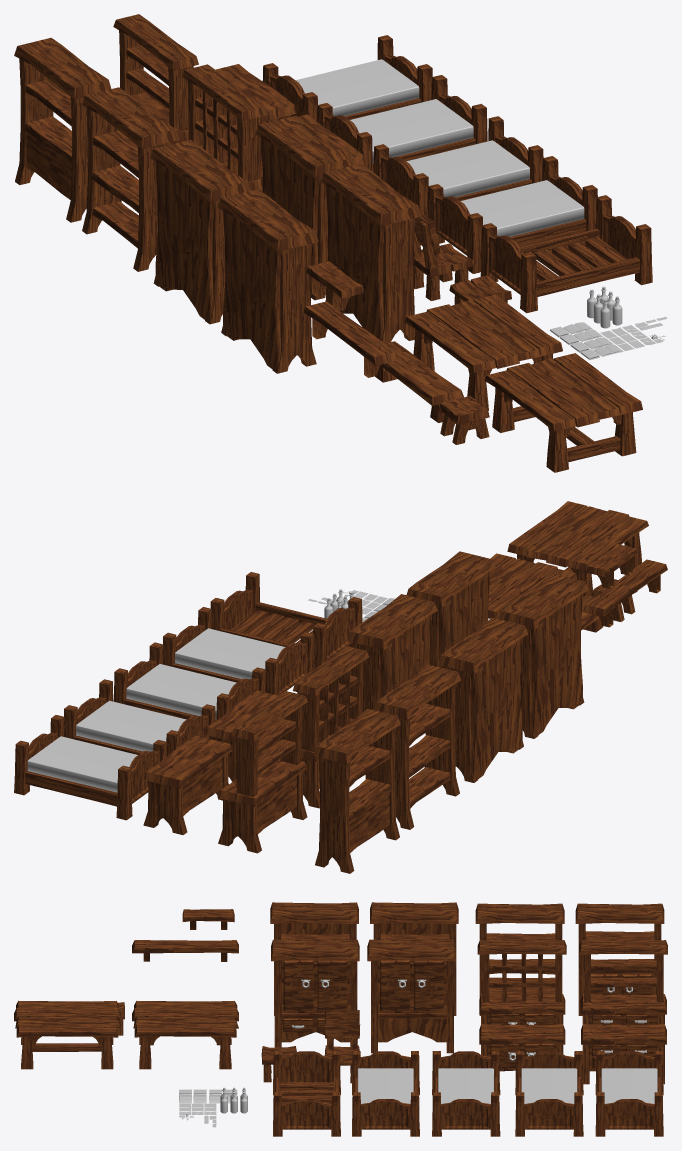
The model's file is Furniture_Misc.fbx.
The picture shows the model from 3 angles, top to bottom: view 1: azimuth 30°, elevation 25°; view 2: azimuth 150°, elevation 25°; view 3: azimuth 270°, elevation 25°; orthographic projection. The views are drawn at different scales.
Parts seen in each view (by area): view 1: pCube509, pCube502, pCube510, pCube511, pCube500, pCube512, pCube517, pCube516, pCube501, pCube515, pCube514, pCube513 (+11 smaller); view 2: pCube512, pCube510, pCube506, pCube509, pCube511, pCube513, pCube516, pCube500, pCube508, pCube515, pCube517, pCube514 (+7 smaller); view 3: pCube508, pCube502, pCube507, pCube506, pCube515, pCube517, pCube514, pCube516, pCube513, pCube500, pCube501, pCube512 (+9 smaller).
Boxes of the visible parts, x1,y1,x2,y2 form: pCube509: (217, 189, 318, 373); pCube502: (320, 163, 421, 343); pCube510: (150, 140, 250, 324); pCube511: (82, 87, 179, 271); pCube500: (484, 353, 642, 472); pCube512: (14, 37, 111, 222); pCube517: (480, 195, 652, 313); pCube516: (428, 156, 597, 273); pCube501: (404, 294, 562, 410); pCube515: (373, 116, 543, 217); pCube514: (317, 75, 487, 171); pCube513: (262, 35, 432, 121); pCube512: (313, 708, 400, 873); pCube510: (438, 617, 528, 782); pCube506: (218, 691, 307, 853); pCube509: (498, 573, 588, 738); pCube511: (374, 664, 460, 829); pCube513: (14, 715, 166, 820); pCube516: (163, 607, 314, 695); pCube500: (507, 501, 648, 597); pCube508: (347, 594, 437, 711); pCube515: (113, 642, 265, 720); pCube517: (210, 572, 362, 668); pCube514: (64, 679, 215, 755); pCube508: (367, 939, 455, 1053); pCube502: (271, 939, 359, 1047); pCube507: (477, 940, 566, 1025); pCube506: (579, 940, 667, 1025); pCube515: (432, 1051, 500, 1136); pCube517: (273, 1051, 340, 1136); pCube514: (515, 1051, 583, 1136); pCube516: (352, 1051, 419, 1136); pCube513: (595, 1051, 663, 1136); pCube500: (14, 1000, 120, 1069); pCube501: (132, 1000, 238, 1069); pCube512: (575, 903, 664, 1015).
Size of the model in its own units: 26.31 by 9 by 53.47.
